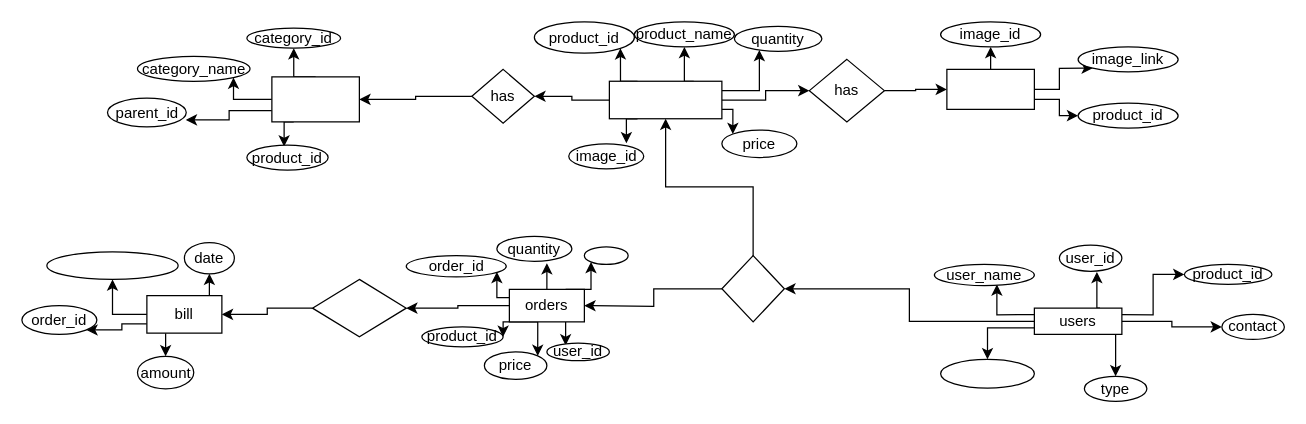
This 1306x424 diagram has some shape labels left out. Each missing label, with the centre of its shape:
"addresses" goes at point (986, 373).
"categories" goes at point (315, 99).
"generates" goes at point (358, 307).
"images" goes at point (990, 88).
"keeps" goes at point (752, 288).
"products" goes at point (665, 99).
"shipping_address" goes at point (112, 265).
"status" goes at point (605, 255).
